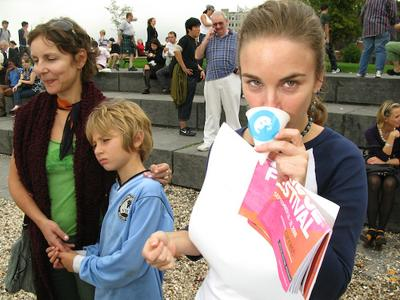person: (140, 1, 372, 300)
